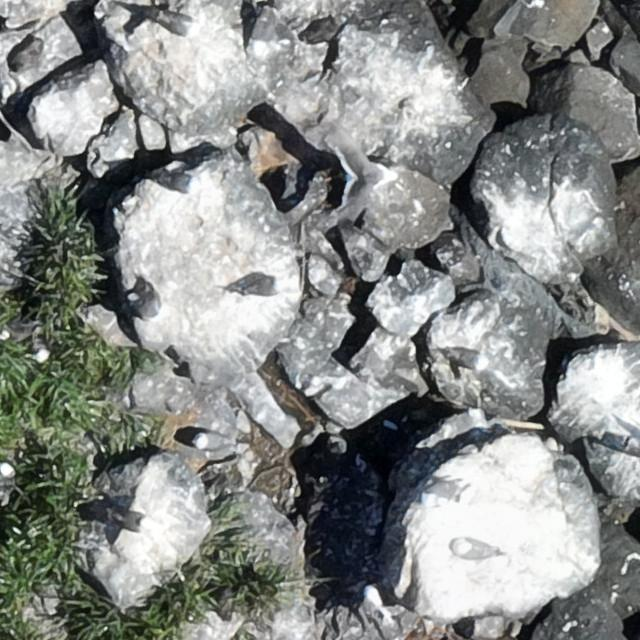F: (329, 122, 396, 220)
umineko: (128, 274, 166, 325), (249, 6, 286, 58), (450, 534, 498, 563), (446, 346, 490, 374), (156, 172, 202, 194), (242, 277, 280, 294), (194, 434, 230, 451), (162, 15, 192, 34), (115, 514, 146, 530), (32, 342, 50, 363)
